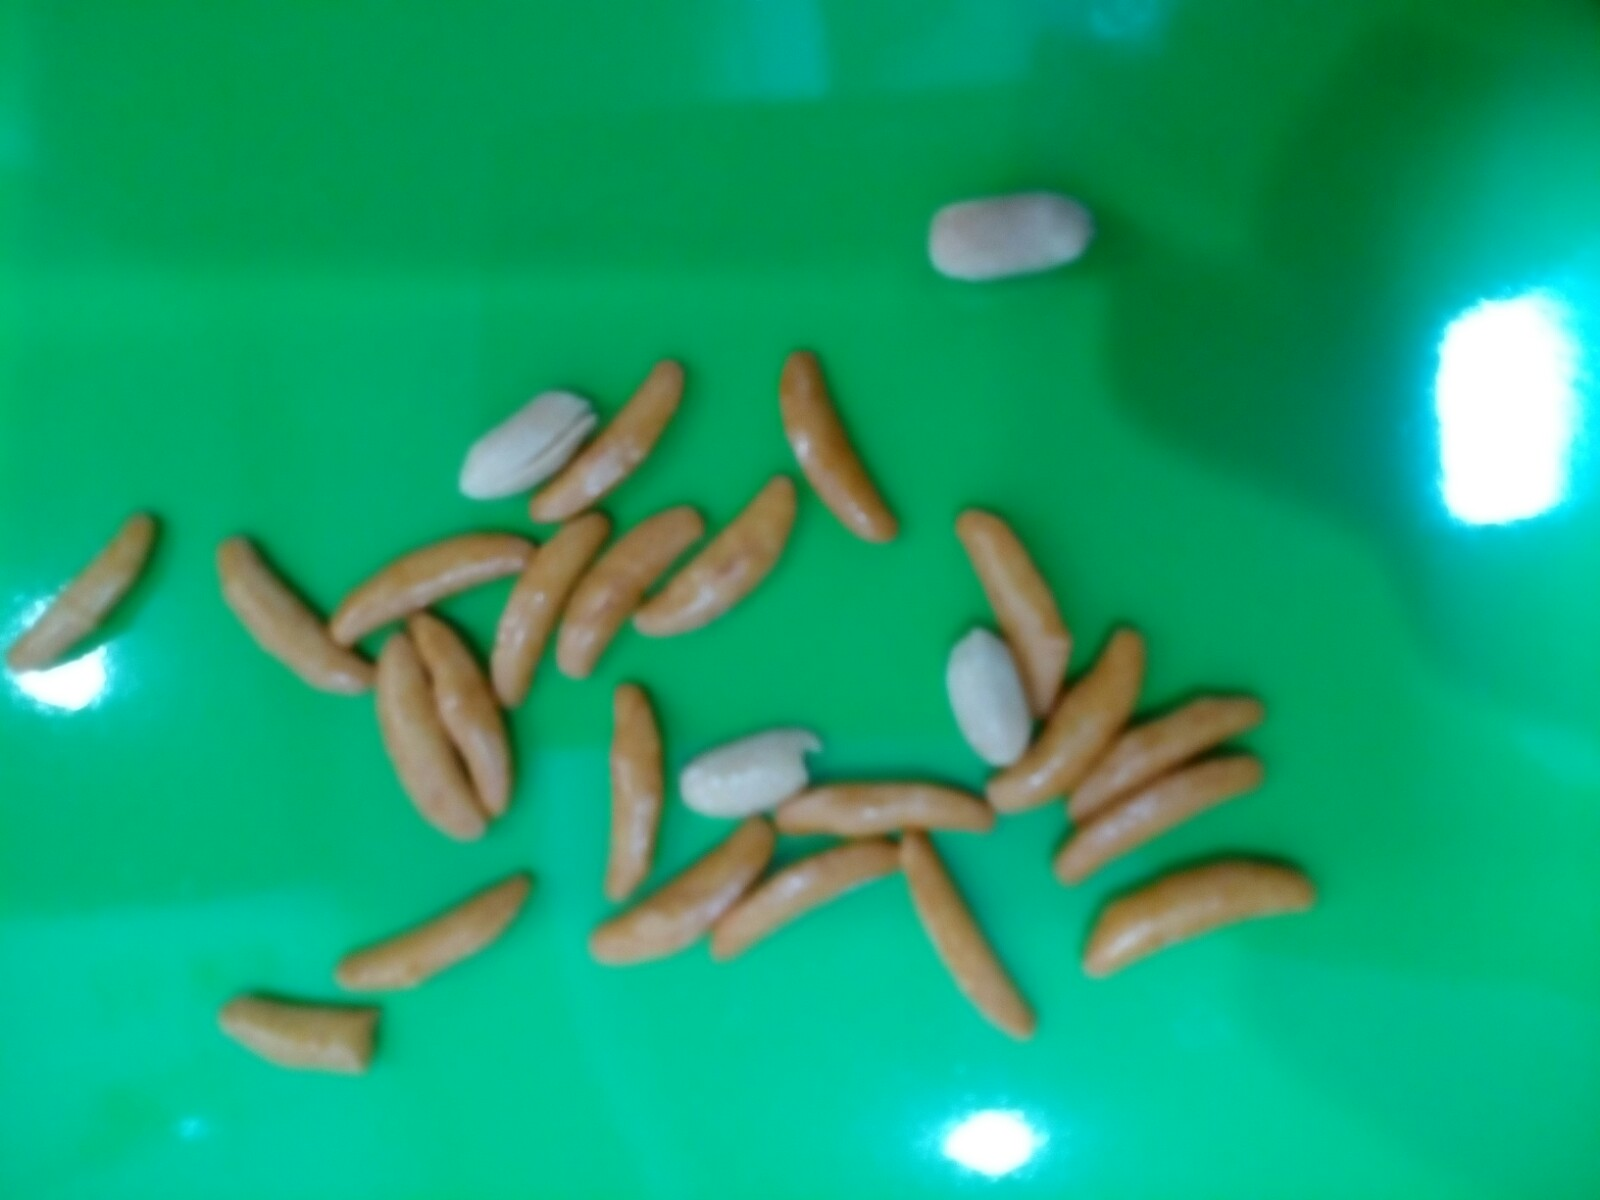peanut: (446, 382, 611, 505), (916, 179, 1106, 285), (664, 712, 843, 824), (939, 608, 1048, 776)
